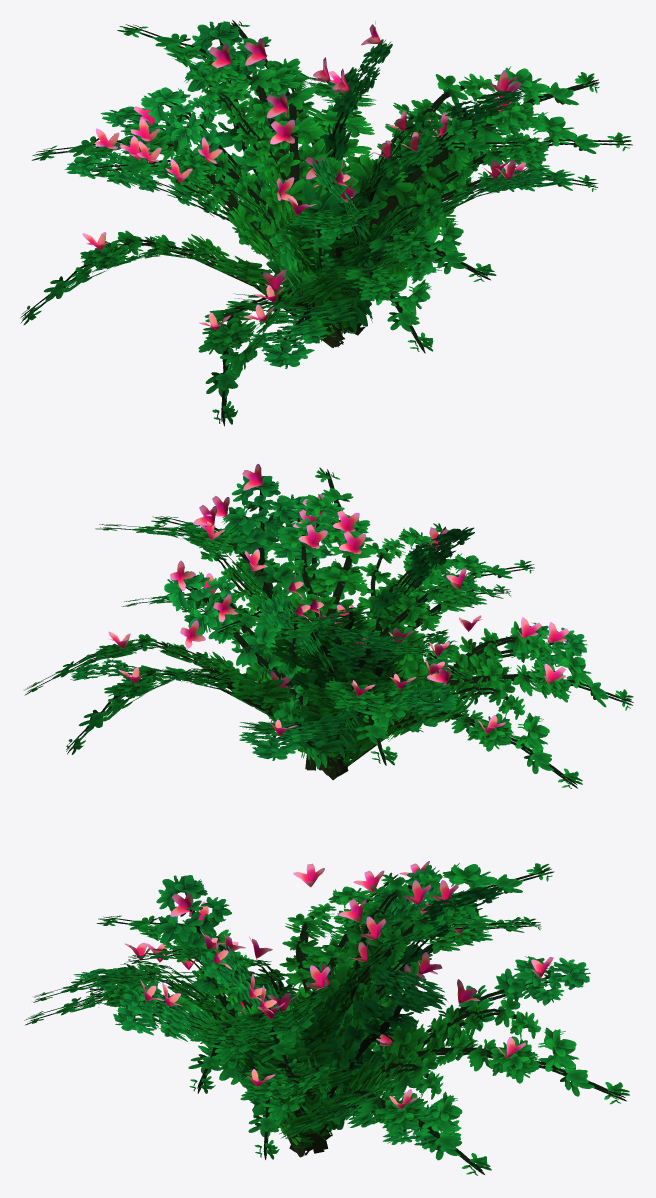
Rendered from SE_Bush_05.fbx.
3 renders of one model, top to bottom at view 1: azimuth 30°, elevation 25°; view 2: azimuth 150°, elevation 25°; view 3: azimuth 270°, elevation 25°, orthographic. The views are drawn at different scales.
Visible parts, largest first — view 1: SE_Bush_05; view 2: SE_Bush_05; view 3: SE_Bush_05.
Part boxes in pixels (x1=…): SE_Bush_05: x1=20, y1=20, x2=632, y2=426; SE_Bush_05: x1=24, y1=464, x2=633, y2=788; SE_Bush_05: x1=24, y1=861, x2=629, y2=1175.
Bounding box in the file's own units: 12.42 × 5.95 × 12.05.
